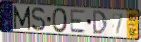7: (112, 12, 124, 35)
D: (92, 9, 109, 35)
E: (70, 9, 87, 35)
M: (12, 5, 31, 32)
O: (52, 7, 68, 34)
S: (31, 6, 46, 32)
